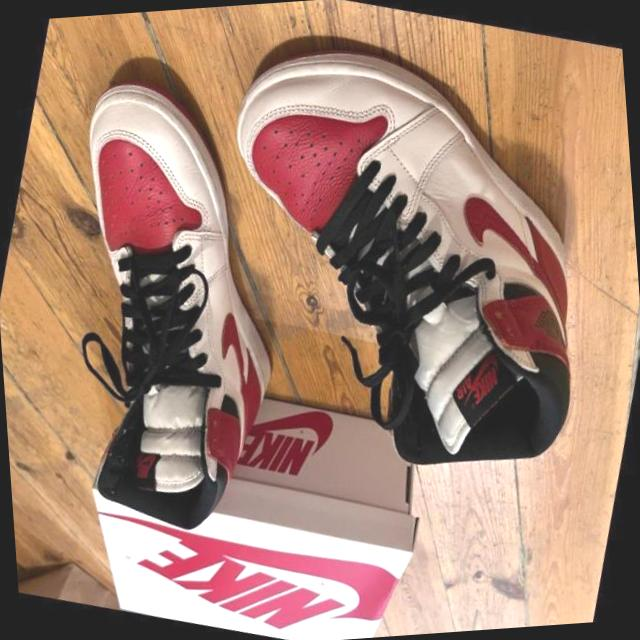nike_original_jordan: (152, 0, 640, 512), (0, 51, 343, 553)
